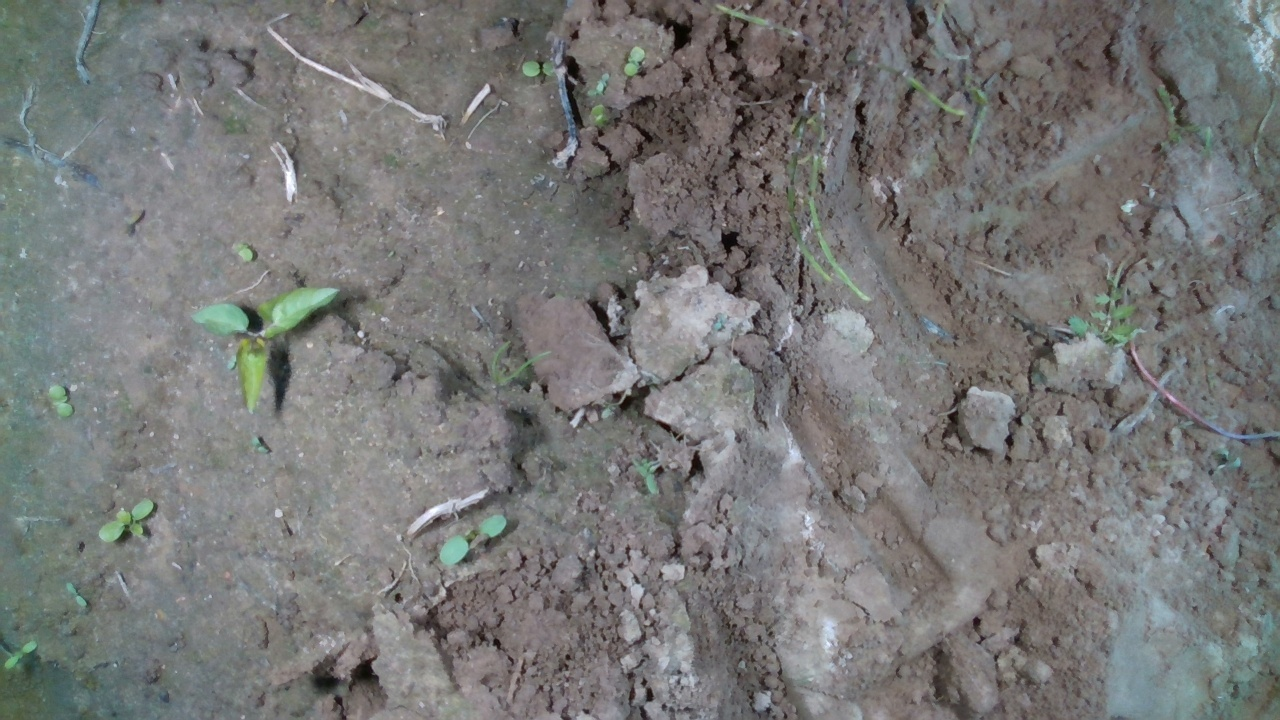weed: (188, 286, 342, 415), (436, 513, 508, 568), (95, 497, 155, 546), (3, 639, 38, 671), (46, 383, 74, 419), (519, 58, 558, 79), (622, 43, 645, 77), (64, 581, 88, 609), (231, 240, 254, 263), (250, 435, 271, 456), (596, 70, 609, 92)
